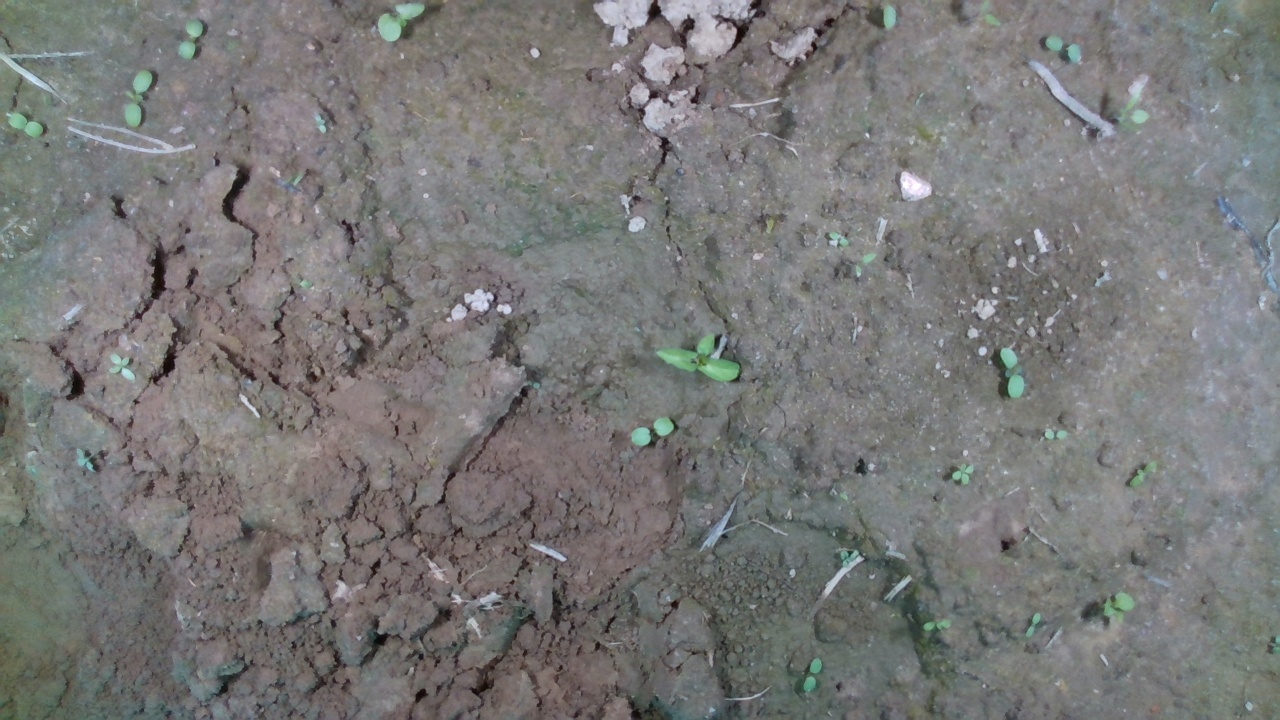weed: (652, 330, 742, 383), (373, 0, 426, 44), (122, 68, 154, 128), (629, 415, 676, 449), (999, 345, 1025, 403), (176, 17, 206, 63), (1043, 34, 1083, 65), (7, 110, 46, 141), (1099, 591, 1136, 619), (107, 352, 136, 383), (1127, 459, 1159, 487), (802, 656, 823, 695), (948, 462, 975, 488), (72, 445, 96, 473), (1024, 610, 1042, 639), (922, 617, 953, 632), (828, 230, 849, 250), (1043, 428, 1070, 440)
